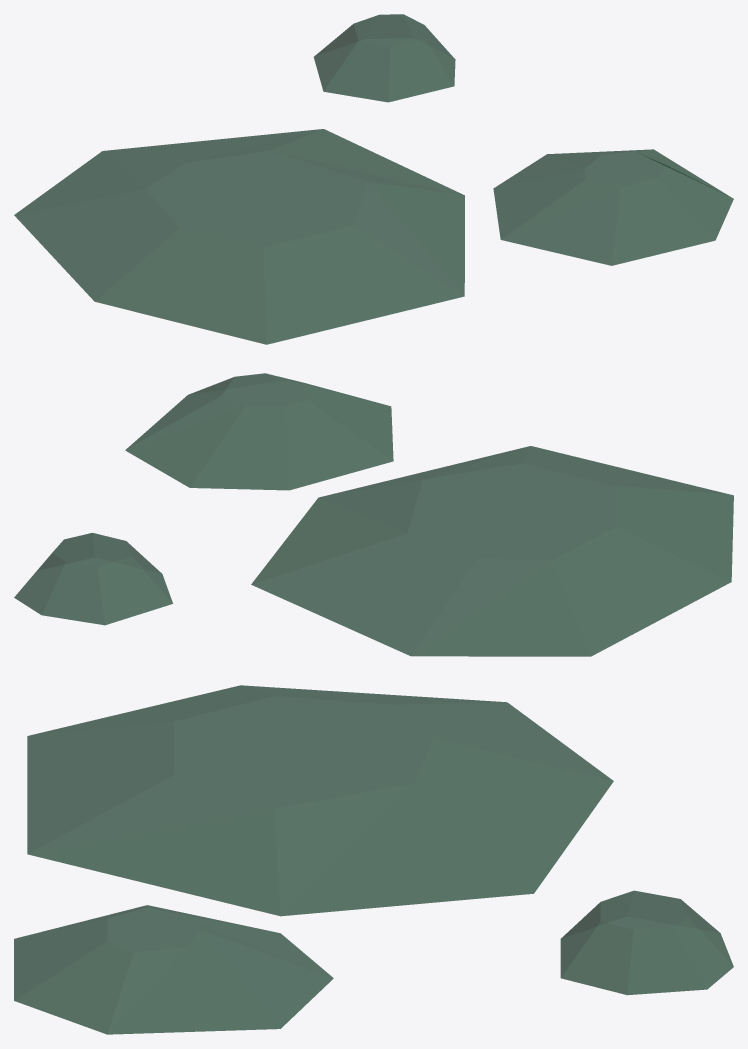
The model's file is model_swamp_bubbles_8.obj.
3 renders of one model, top to bottom at view 1: azimuth 30°, elevation 25°; view 2: azimuth 150°, elevation 25°; view 3: azimuth 270°, elevation 25°, orthographic. The views are drawn at different scales.
Visible parts, largest first — view 1: 2259; view 2: 2259; view 3: 2259.
Part boxes in pixels (left/top/right/bottom): 2259: left=14, top=14, right=733, bottom=344; 2259: left=14, top=373, right=733, bottom=656; 2259: left=14, top=685, right=733, bottom=1034.
Size of the model in its own units: 124 by 8 by 108.
